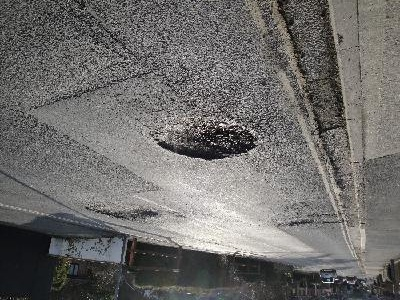pothole: (148, 115, 261, 162), (82, 202, 157, 221), (271, 135, 272, 137)
